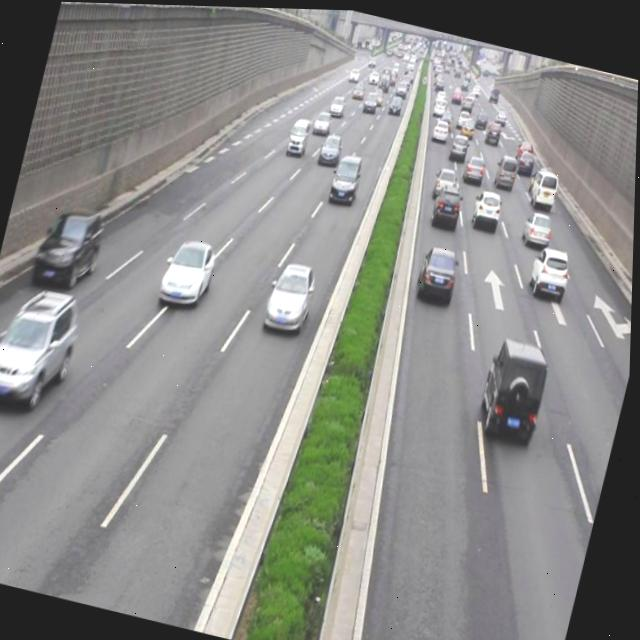car: (0, 277, 87, 413), (473, 330, 555, 445), (30, 200, 109, 296), (158, 232, 220, 311), (262, 255, 320, 336), (414, 238, 462, 303), (526, 239, 573, 296), (430, 179, 466, 227), (469, 184, 505, 229), (521, 205, 555, 245), (430, 159, 461, 200), (492, 148, 520, 188), (317, 127, 345, 165), (462, 148, 489, 182)
truck: (327, 148, 365, 206), (528, 163, 561, 206), (284, 113, 312, 156)
